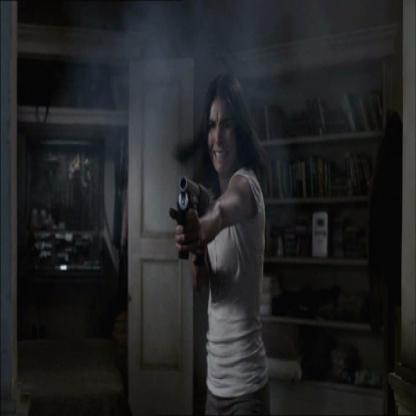Guns: (166, 172, 212, 274)
